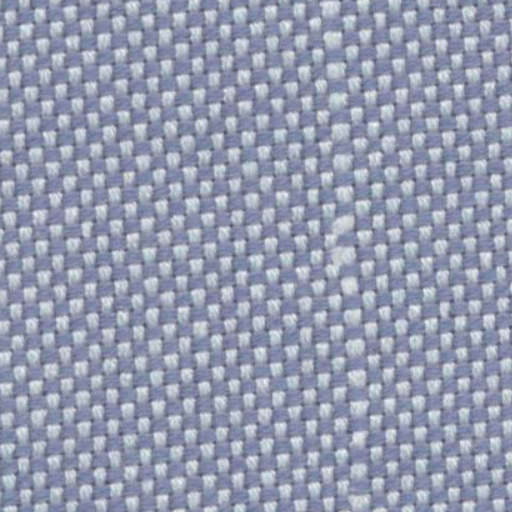TuoSha: (292, 12, 400, 498)
